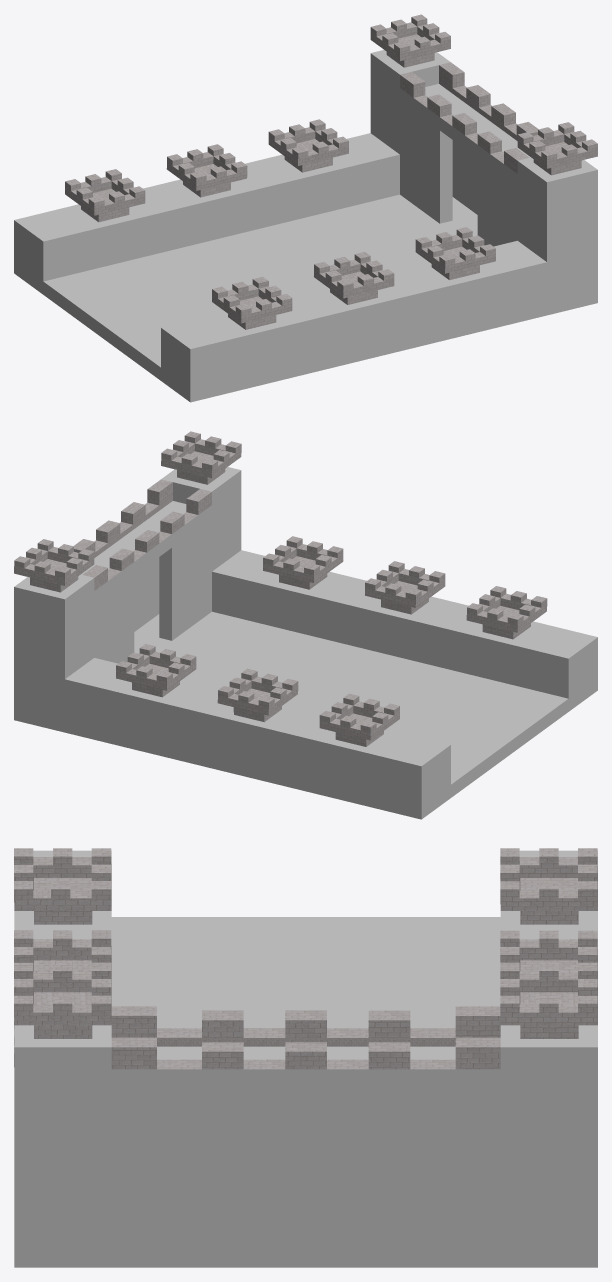
Rendered from Castle Trail+Gate(T).fbx.
3 renders of one model, top to bottom at view 1: azimuth 30°, elevation 25°; view 2: azimuth 150°, elevation 25°; view 3: azimuth 270°, elevation 25°, orthographic. The views are drawn at different scales.
Visible parts, largest first — view 1: Castle Trail End; view 2: Castle Trail End; view 3: Castle Trail End.
Boxes of the visible parts, left/top/right/bottom form: Castle Trail End: left=14, top=14, right=597, bottom=402; Castle Trail End: left=14, top=431, right=597, bottom=819; Castle Trail End: left=14, top=848, right=597, bottom=1267.
Bounding box in the file's own units: 1600 × 599 × 1201.
